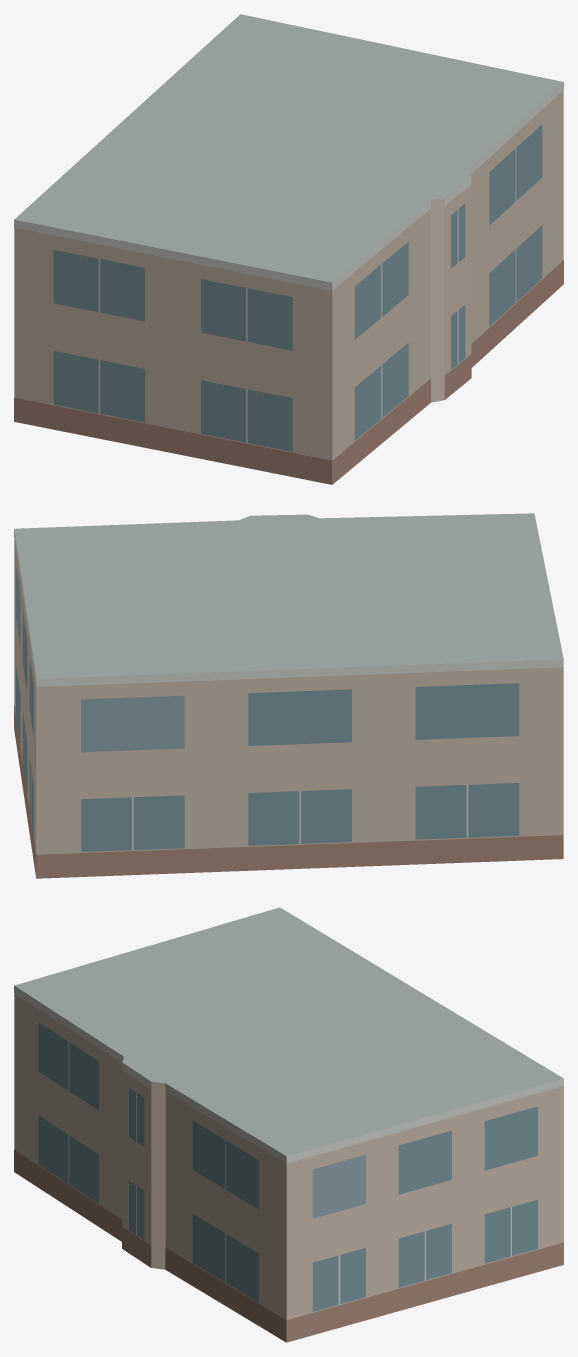
Rendered from survey-upis-32624904.glb.
The picture shows the model from 3 angles, top to bottom: view 1: azimuth 30°, elevation 25°; view 2: azimuth 150°, elevation 25°; view 3: azimuth 270°, elevation 25°; orthographic projection. The views are drawn at different scales.
Visible parts, largest first — view 1: survey-upis-32624904.tmp; view 2: survey-upis-32624904.tmp; view 3: survey-upis-32624904.tmp.
Boxes of the visible parts, <box> form: survey-upis-32624904.tmp: <box>14,14,563,484</box>; survey-upis-32624904.tmp: <box>14,513,563,878</box>; survey-upis-32624904.tmp: <box>14,907,563,1342</box>.
Size of the model in its own units: 17.48 by 6.1 by 16.32.
